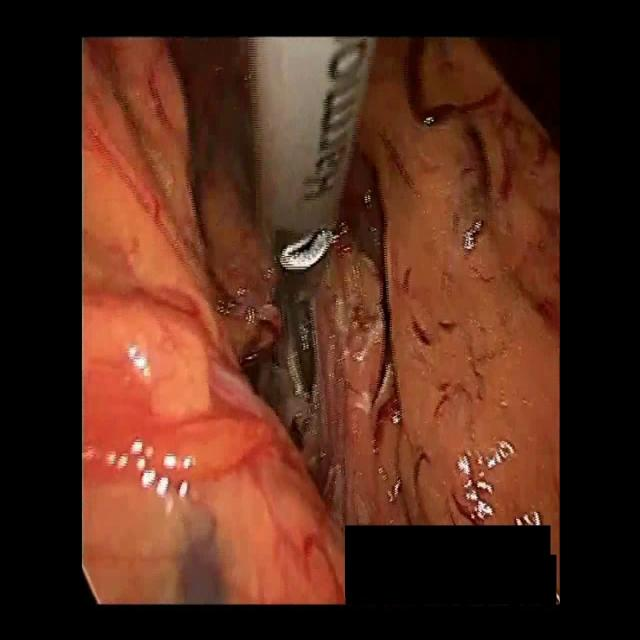surgical-area: (82, 36, 560, 604)
surgical-tool: (249, 38, 377, 246)
